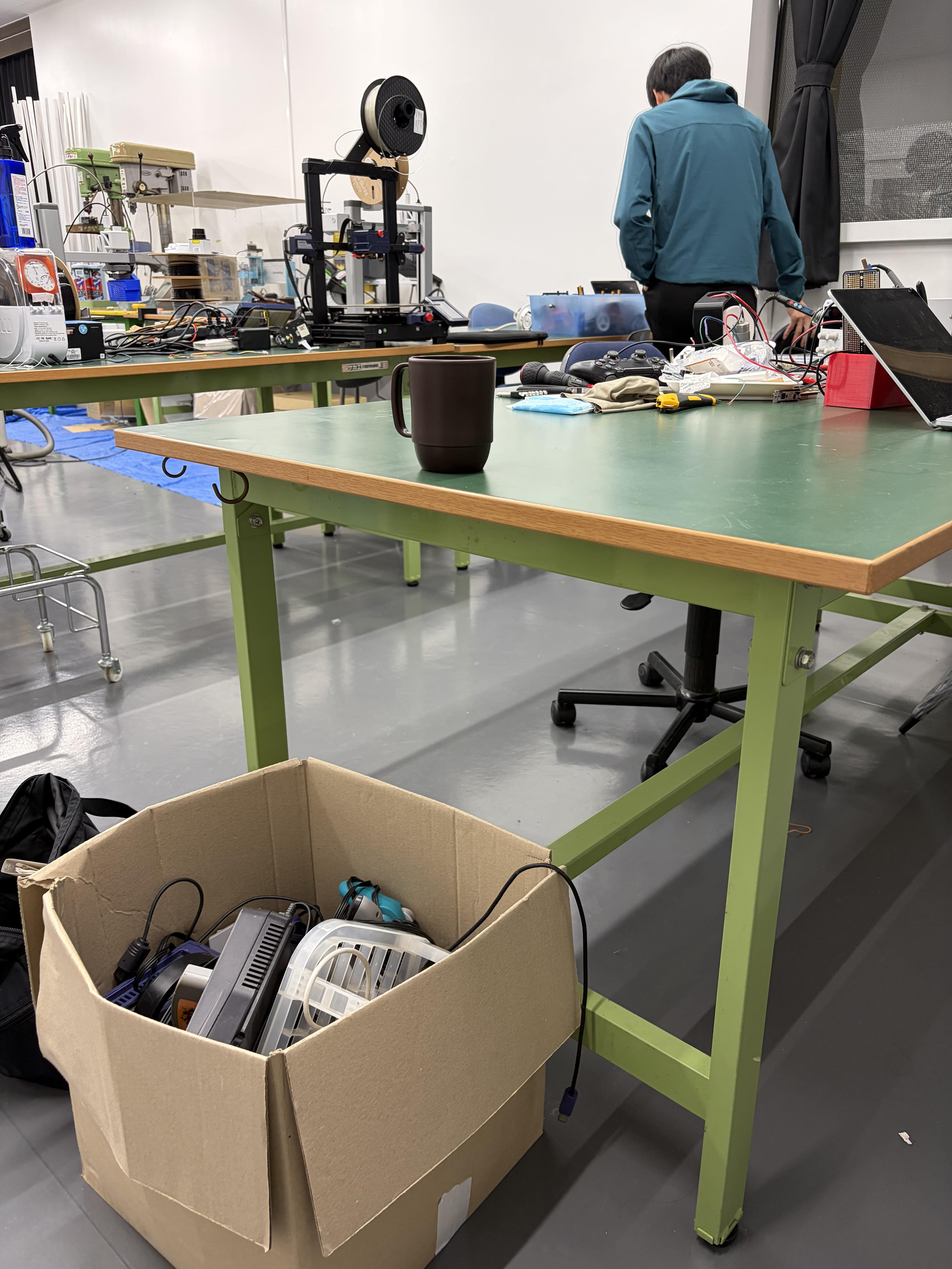mug-real100-3d100: (391, 355, 496, 474)
